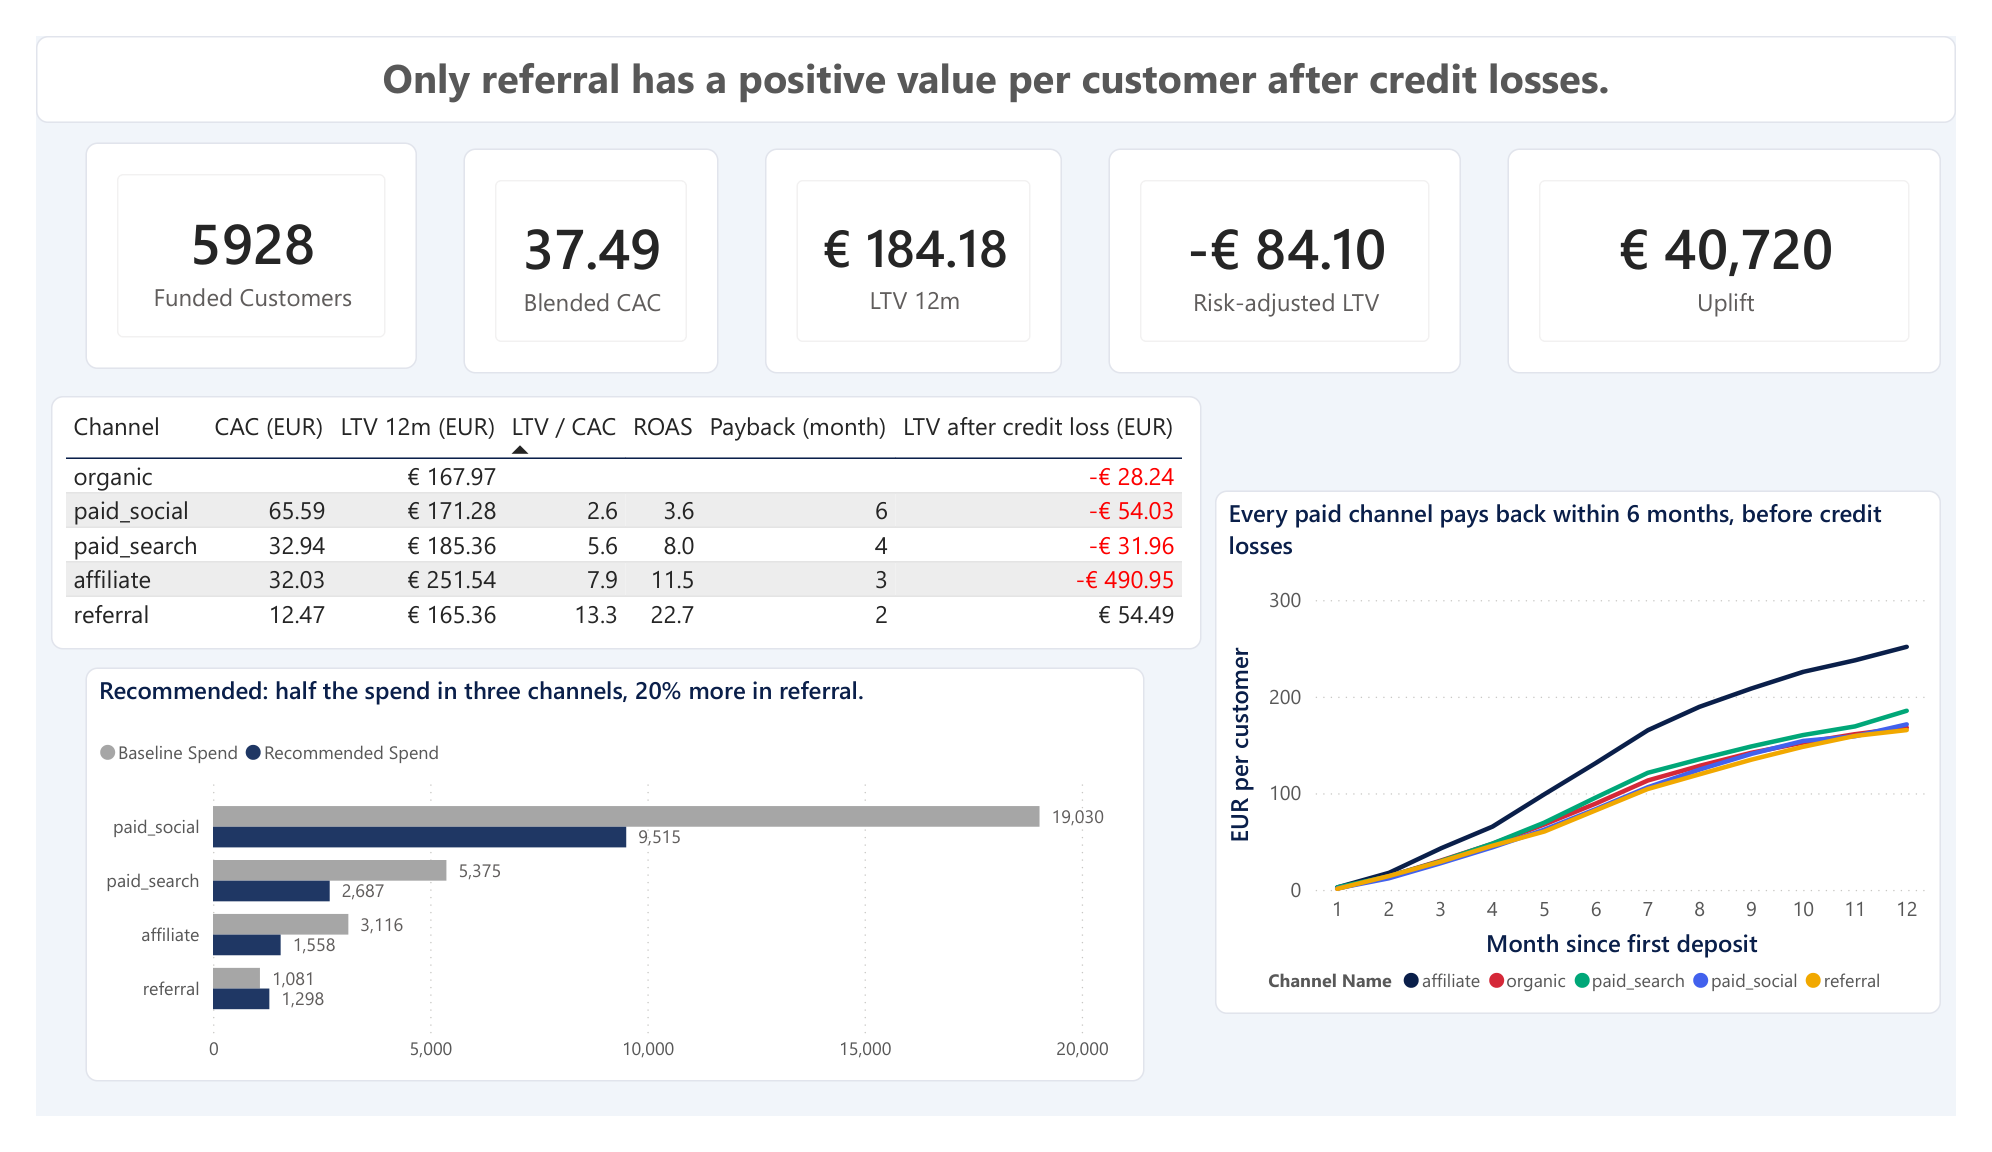

Layout of this report page (visuals, bound fields, positions):
{"tool":"powerbi","page":{"name":"Executive","canvas":[1280,720],"ordinal":0},"visuals":[{"type":"textbox","box":[0,0,1280.3,58.3],"z":0},{"type":"cardVisual","fields":{"Data":["_Measures.Funded Customers"]},"box":[33.5,71.5,220.6,150.8],"z":1000},{"type":"cardVisual","fields":{"Data":["_Measures.Blended CAC"]},"box":[285.3,74.5,169.9,150.8],"z":2000},{"type":"cardVisual","fields":{"Data":["_Measures.LTV 12m"]},"box":[486.4,74.5,197.7,150.8],"z":3000},{"type":"cardVisual","fields":{"Data":["_Measures.Risk-adjusted LTV"]},"box":[715.3,74.5,234.2,150.5],"z":4000},{"type":"cardVisual","fields":{"Data":["_Measures.Uplift"]},"box":[980.8,74.5,288.9,150.5],"z":5000},{"type":"tableEx","fields":{"Values":["dim channel.channel_name","_Measures.CAC","_Measures.LTV 12m","_Measures.LTV to CAC","_Measures.ROAS","_Measures.Payback Month","_Measures.Risk-adjusted LTV"]},"box":[9.8,240.5,766.9,168.1],"z":6000},{"type":"lineChart","title":"Every paid channel pays back within 6 months, before credit losses","fields":{"Category":["rpt v_channel_curve.month_no"],"Series":["dim channel.channel_name"],"Y":["_Measures.Cumulative Margin per Customer"]},"box":[786.1,302.6,483.5,349.7],"z":7000},{"type":"clusteredBarChart","title":"Recommended: half the spend in three channels, 20% more in referral.","fields":{"Category":["dim channel.channel_name"],"Y":["_Measures.Baseline Spend","_Measures.Recommended Spend"]},"box":[33.1,420.9,705.5,276.1],"z":8000}]}

Visuals, with their boxes in screenshot pixels (x1, y1, x2, y2), scaled from the page's 1280x720 canvas onto the 1992x1152 screenshot:
textbox: (x1=0, y1=0, x2=1991, y2=93)
cardVisual - _Measures.Funded Customers: (x1=52, y1=114, x2=395, y2=356)
cardVisual - _Measures.Blended CAC: (x1=444, y1=119, x2=708, y2=360)
cardVisual - _Measures.LTV 12m: (x1=757, y1=119, x2=1065, y2=360)
cardVisual - _Measures.Risk-adjusted LTV: (x1=1113, y1=119, x2=1478, y2=360)
cardVisual - _Measures.Uplift: (x1=1526, y1=119, x2=1976, y2=360)
tableEx - dim channel.channel_name x _Measures.CAC: (x1=15, y1=385, x2=1209, y2=654)
"Every paid channel pays back within 6 months, before credit losses" lineChart: (x1=1223, y1=484, x2=1976, y2=1044)
"Recommended: half the spend in three channels, 20% more in referral." clusteredBarChart: (x1=52, y1=673, x2=1149, y2=1115)
